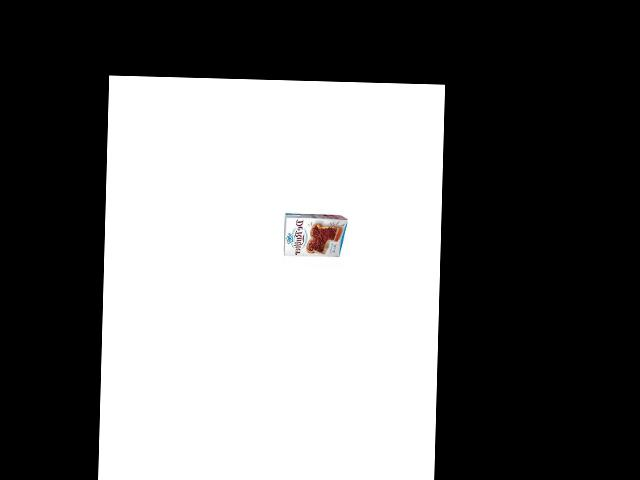chocolate: (279, 207, 346, 263)
